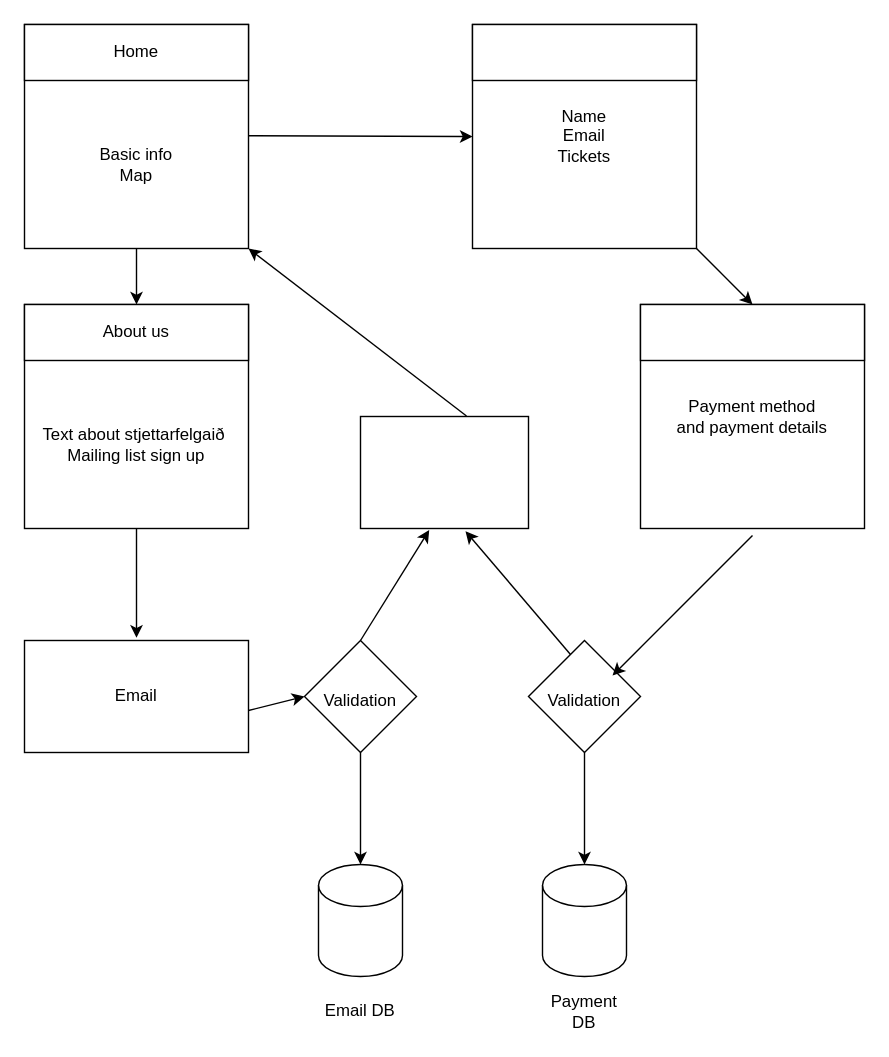
Image size: 889x1057. Some labels were removed from this diagram. The centre of each missing label's shape, as x and y in pixels:
Payment page: [751,331]
Sign up form: [583,51]
Thank You: [443,471]
